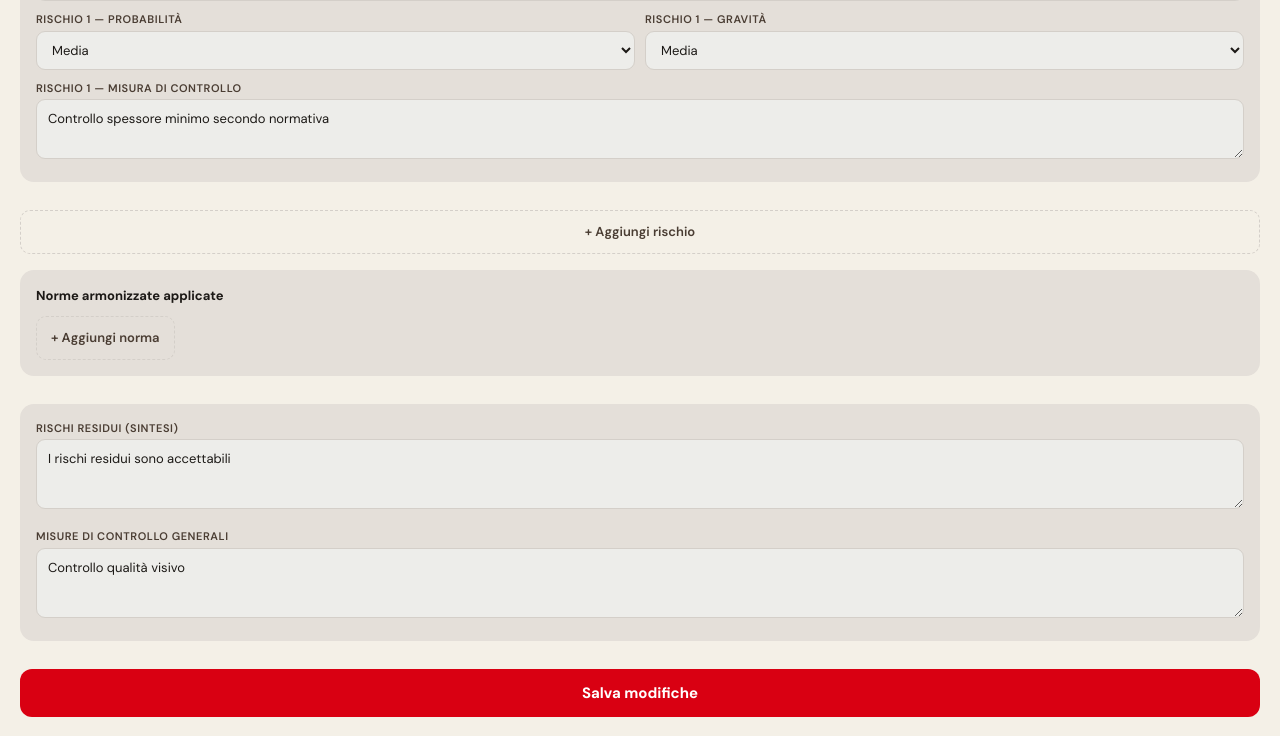
Test: RischiEditor › errore server mostra messaggio e mantiene dati
(page scrolled)
Click the button "Salva modifiche": (640, 693) x1=20 y1=668 x2=1260 y2=717
(page scrolled)
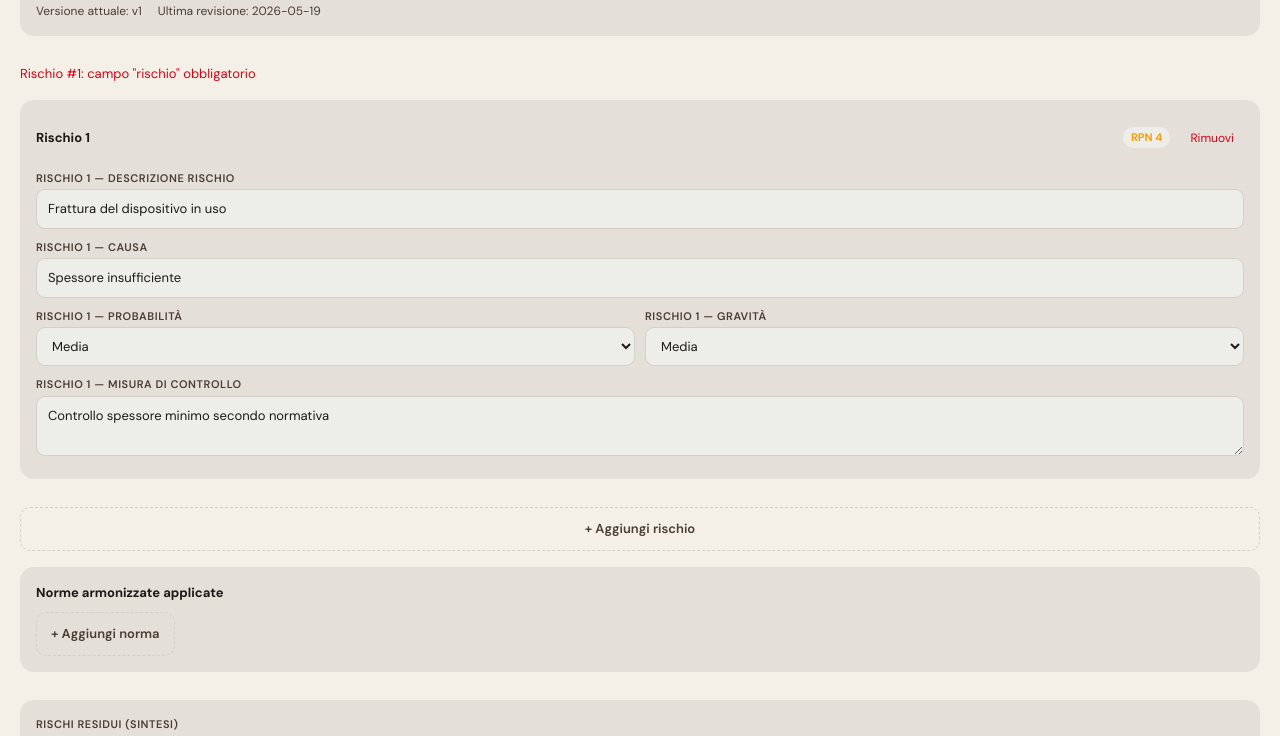
Expected: the field labelled "Rischio 1 — Descrizione rischio" holds "Frattura del dispositivo in uso", x1=36 y1=189 x2=1244 y2=228
Now the message shows "obbligatorio", box x1=20 y1=65 x2=256 y2=82
